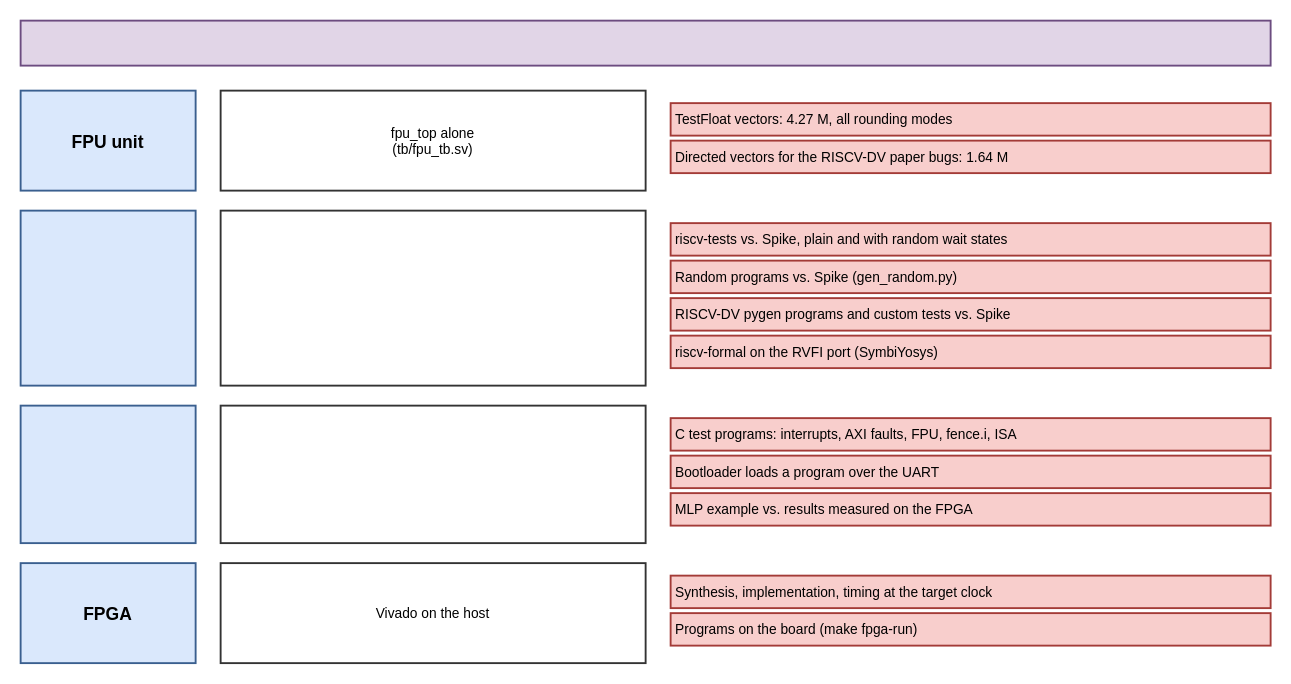
The diagram is 1291 pixels wide and 684 high, and some of its shapes have lost their labels. The shapes that lost their labels are listed below. From the top down, each one's centre as x and y in pixels, then its label:
At [645,42]: "make lint: Verilator -Wall, Verilog-2005, every ISA configuration".
At [107,297]: "Core".
At [432,297]: "hornet_core with a memory model (tb/hornet_tb.sv)".
At [107,474]: "SoC".
At [432,474]: "hornet_soc with UART, AXI RAM, GPIO loopback (tb/soc_tb.sv)".
